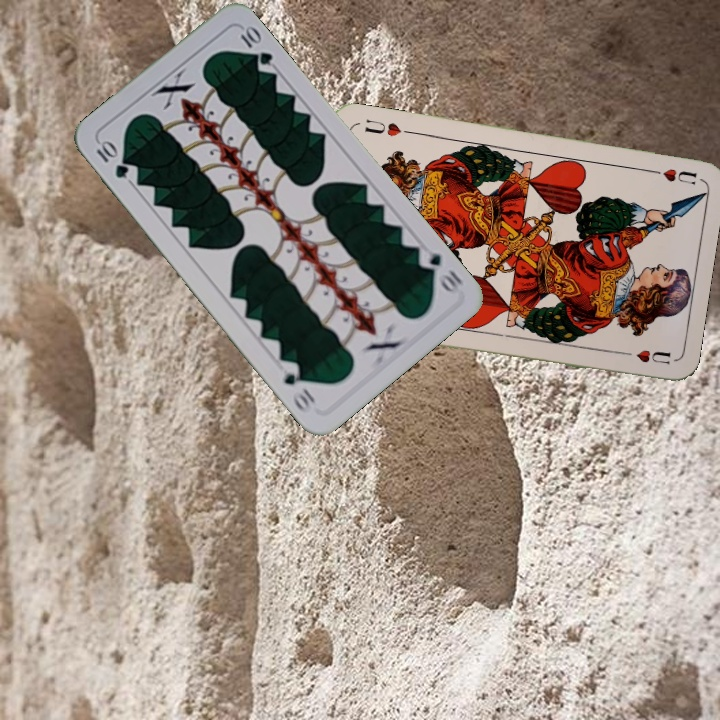G10: (413, 243, 465, 297), (92, 136, 132, 181)
HU: (642, 164, 699, 188)
